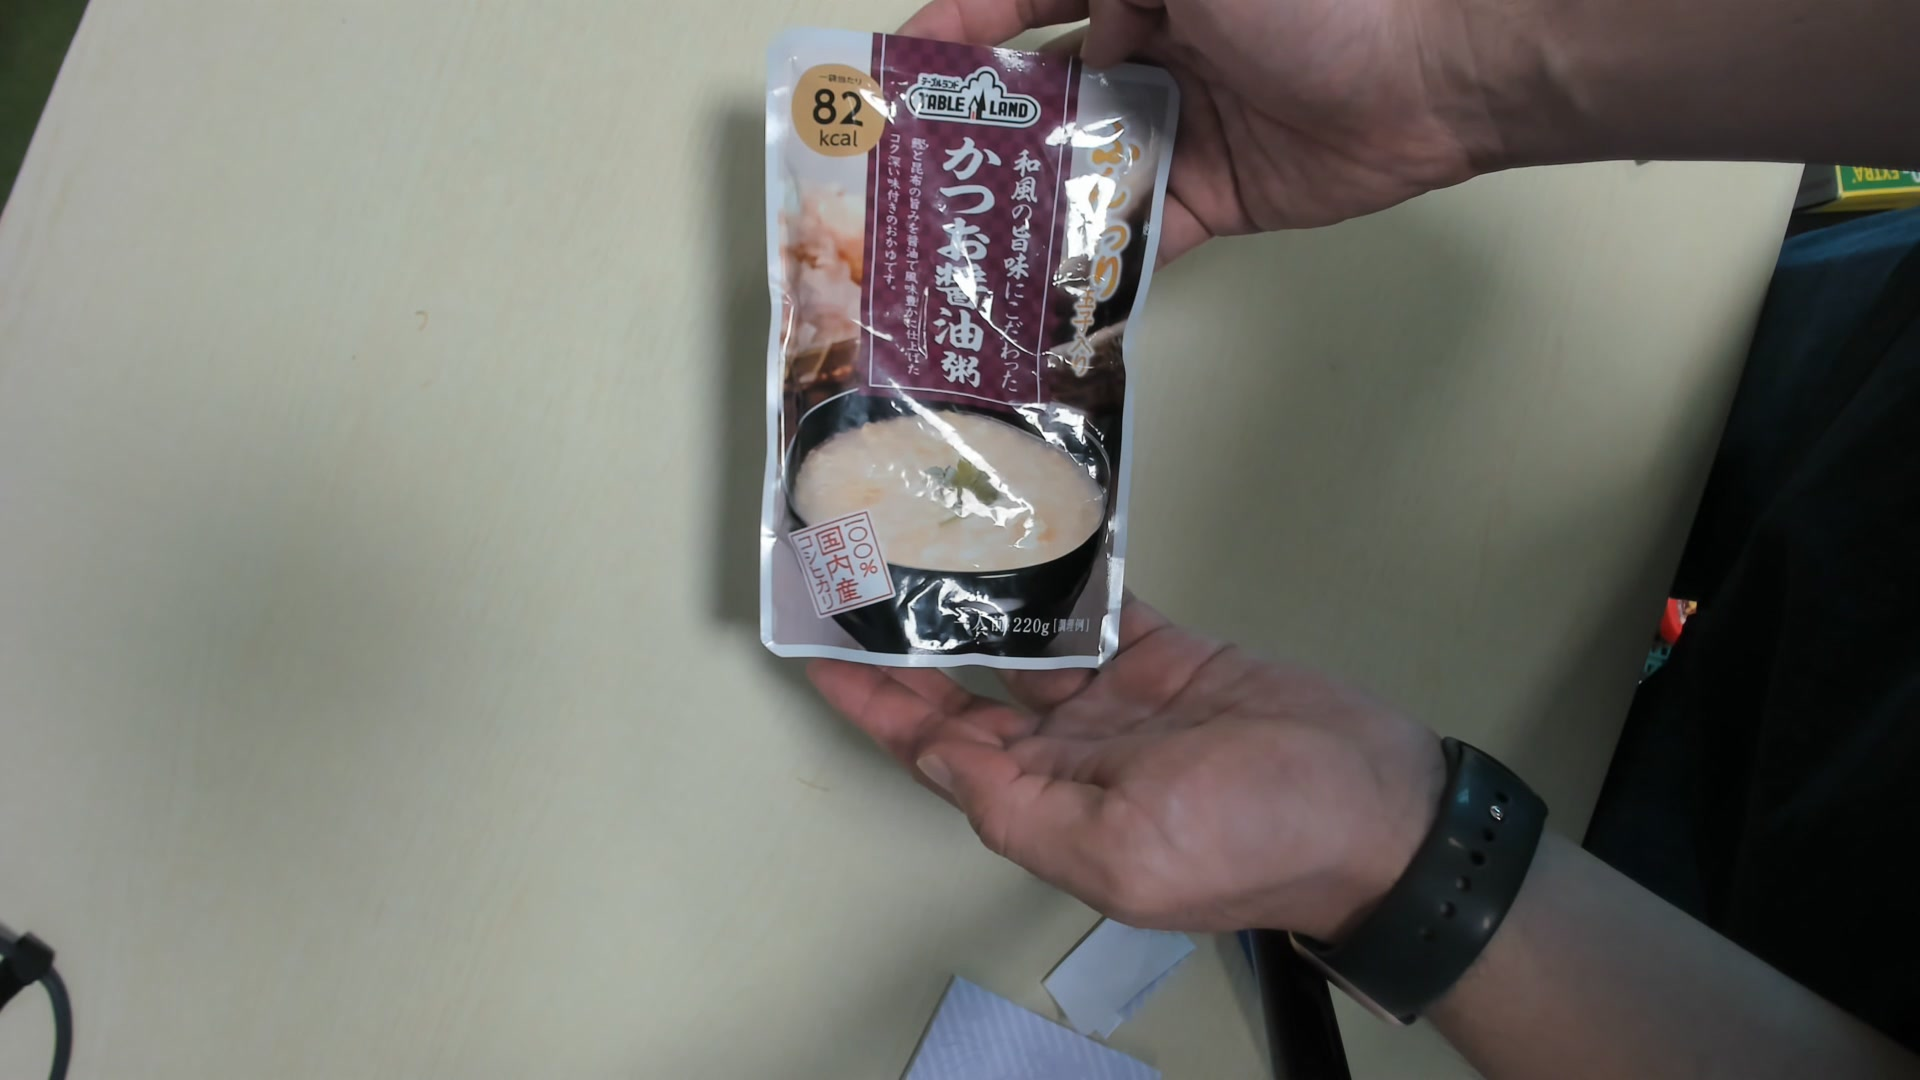InstantMeals_200_299g_NonHalal_NonHealthy: (756, 33, 1187, 673)
